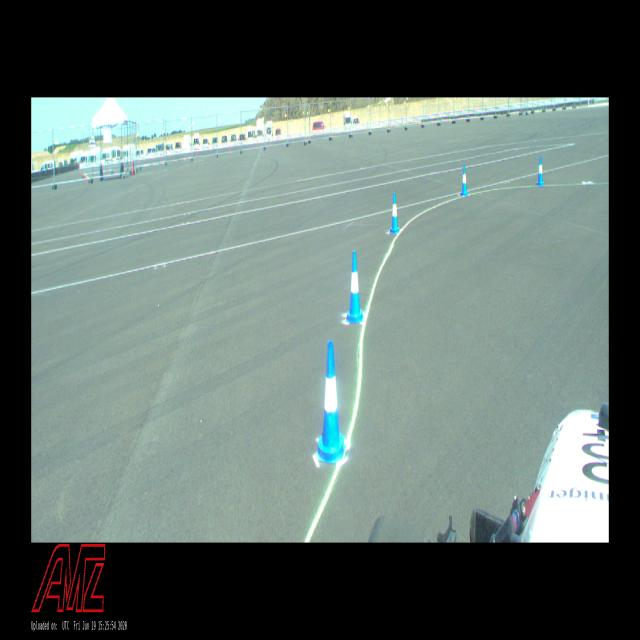blue_cone: (316, 340, 346, 464), (346, 250, 364, 323), (390, 192, 400, 233), (461, 165, 468, 196), (537, 156, 544, 186)
